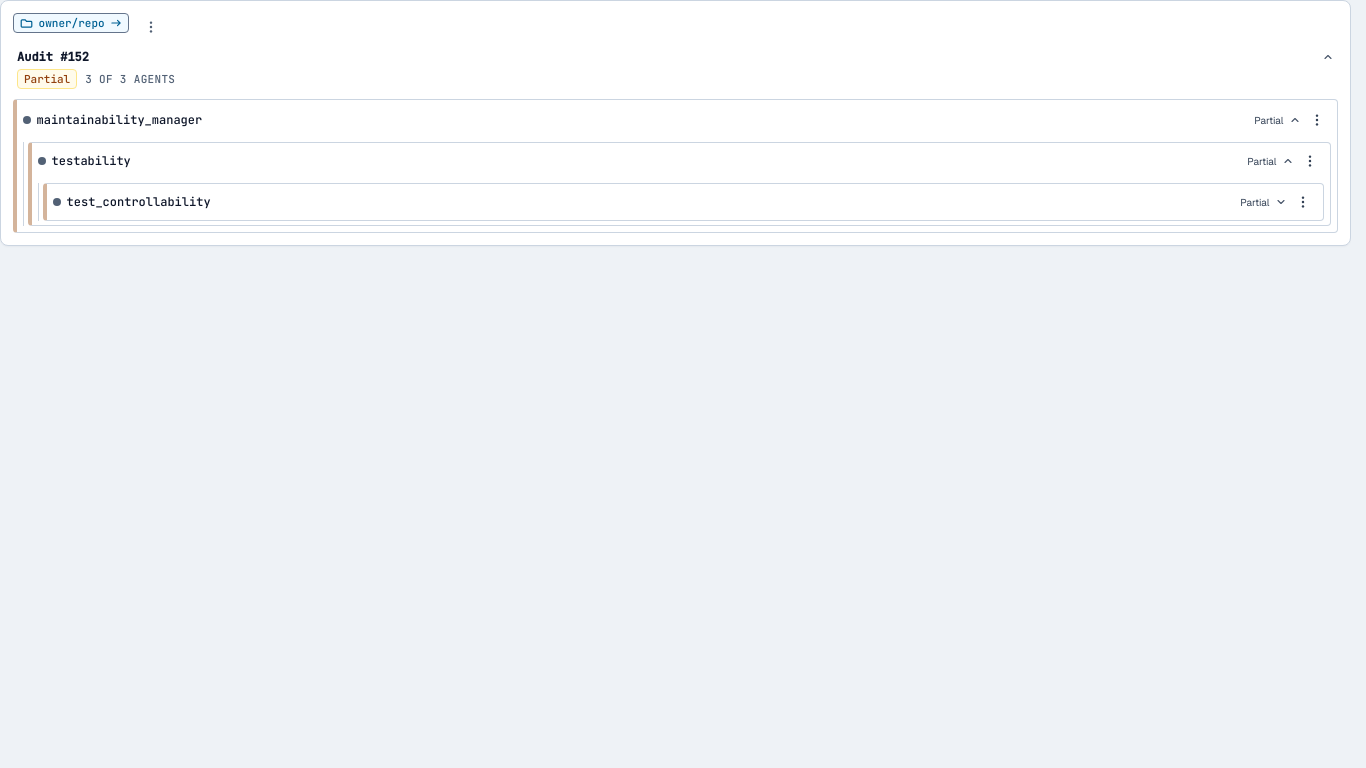
Test: shows a retry action when the report cannot be loaded
Click the button named "View reason" at [151, 27], box [137,13,165,41]
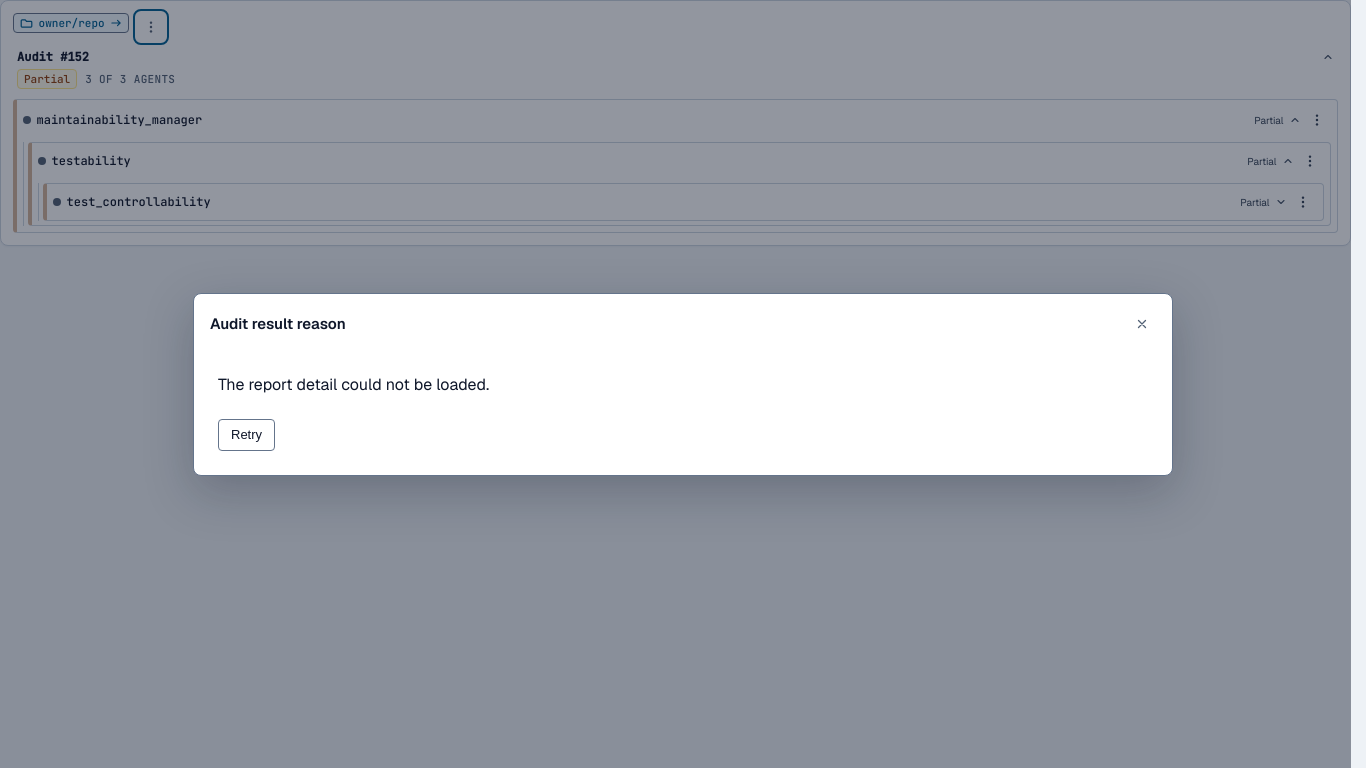
Now the text "The report detail could not be loaded." is shown, box [218,374,489,394]
Click the button "Retry" at [247, 434], box [218,418,275,450]
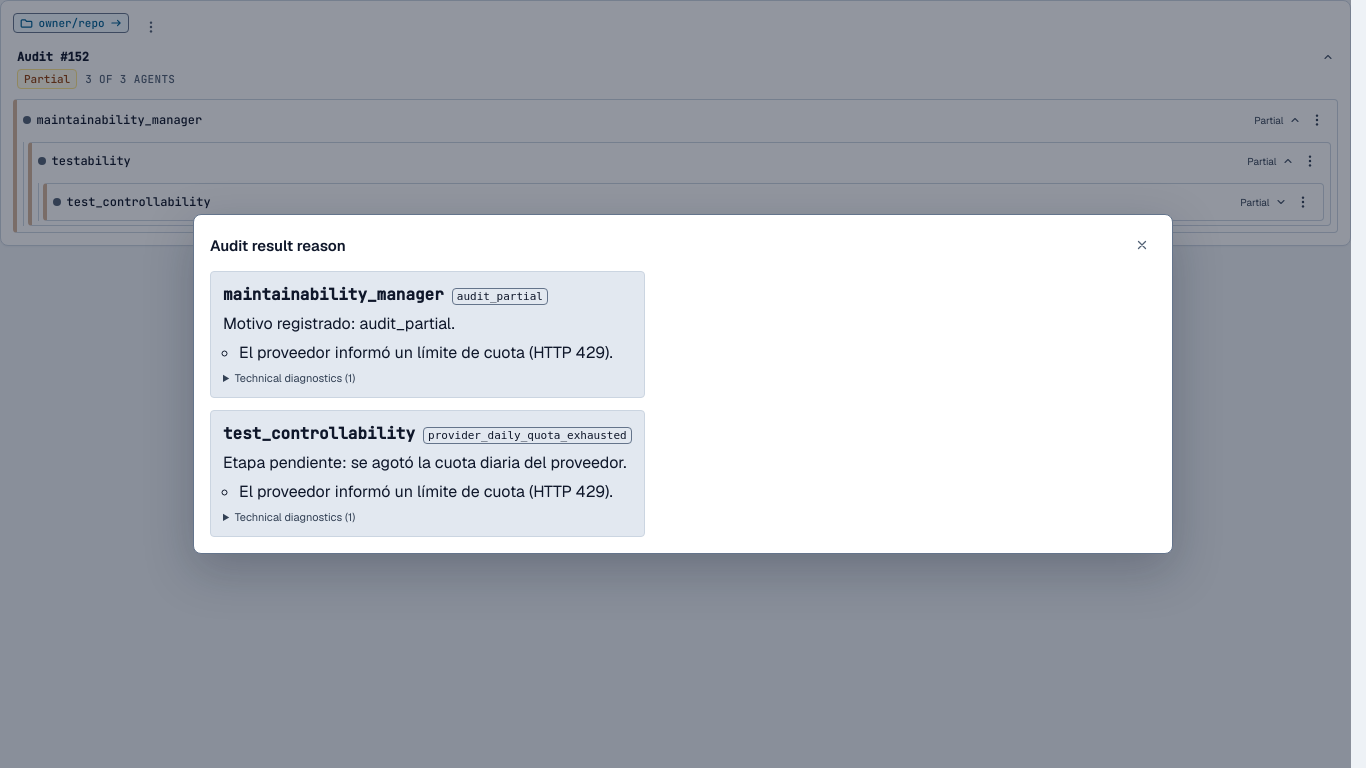
Now the text "maintainability_manager" is shown, box [223,284,444,305]
